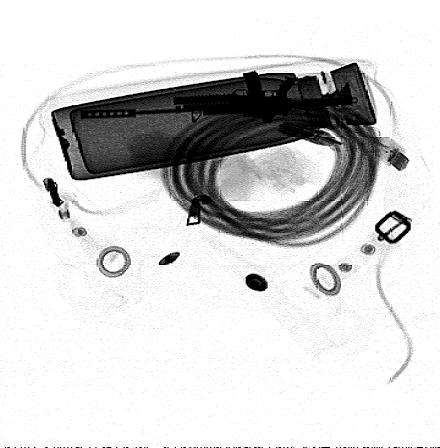Gun: (78, 71, 354, 123)
